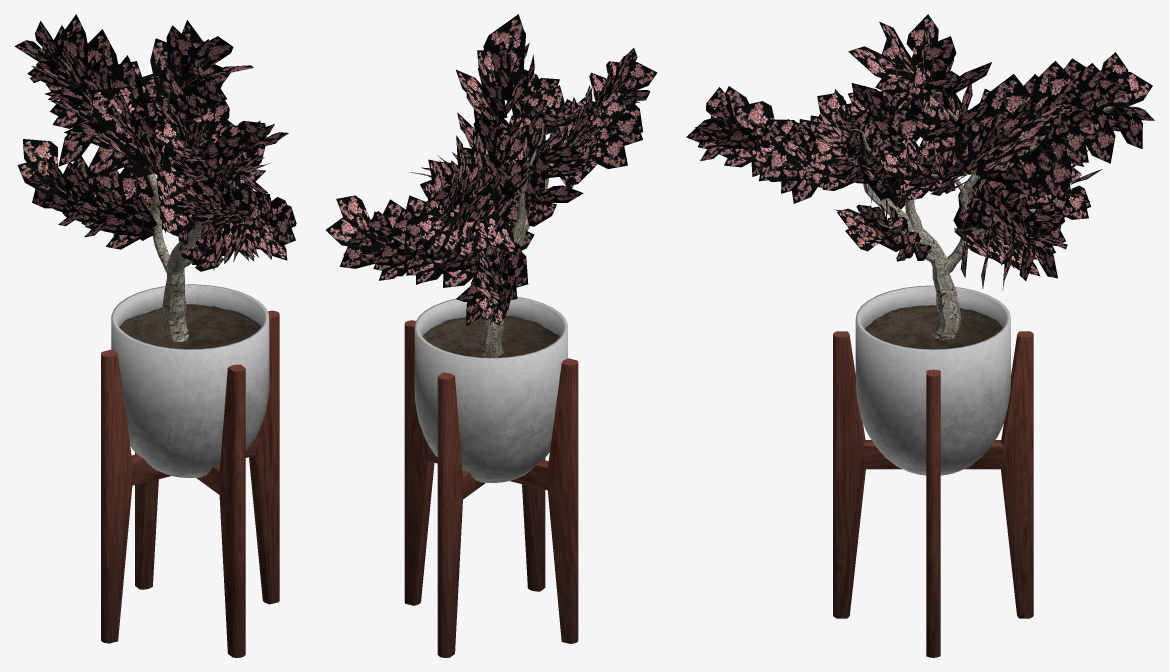
The model's file is plantcompressed.glb.
The picture shows the model from 3 angles, left to right: view 1: azimuth 30°, elevation 25°; view 2: azimuth 150°, elevation 25°; view 3: azimuth 270°, elevation 25°; orthographic projection. The views are drawn at different scales.
Parts seen in each view (by area): view 1: Stand_Mat_0, Pot_LP_Mat_0, Loft002, Plane348, Plane022, Plane522, Plane526, Plane115, Plane051, Plane083, Plane090, Plane268 (+26 smaller); view 2: Stand_Mat_0, Pot_LP_Mat_0, Loft002, Plane522, Plane460, Plane455, Plane521, Plane162, Plane207, Plane465, Plane226, Plane459 (+12 smaller); view 3: Pot_LP_Mat_0, Stand_Mat_0, Loft002, Plane096, Plane090, Plane115, Plane346, Plane525, Plane202, Plane209, Plane527, Plane058 (+6 smaller).
Boxes of the visible parts, x1=… form: Stand_Mat_0: x1=101, y1=310, x2=279, y2=657; Pot_LP_Mat_0: x1=111, y1=284, x2=269, y2=477; Loft002: x1=64, y1=153, x2=246, y2=341; Plane348: x1=90, y1=86, x2=136, y2=153; Plane022: x1=23, y1=139, x2=57, y2=184; Plane522: x1=180, y1=36, x2=233, y2=81; Plane526: x1=166, y1=25, x2=194, y2=76; Plane115: x1=109, y1=55, x2=146, y2=110; Plane051: x1=119, y1=168, x2=161, y2=219; Plane083: x1=58, y1=30, x2=88, y2=88; Plane090: x1=86, y1=29, x2=118, y2=73; Plane268: x1=95, y1=205, x2=154, y2=240; Stand_Mat_0: x1=404, y1=320, x2=578, y2=657; Pot_LP_Mat_0: x1=414, y1=296, x2=567, y2=482; Loft002: x1=393, y1=87, x2=618, y2=357; Plane522: x1=483, y1=14, x2=525, y2=85; Plane460: x1=336, y1=195, x2=377, y2=239; Plane455: x1=326, y1=217, x2=386, y2=251; Plane521: x1=490, y1=41, x2=512, y2=99; Plane162: x1=621, y1=62, x2=657, y2=94; Plane207: x1=610, y1=112, x2=642, y2=145; Plane465: x1=369, y1=241, x2=412, y2=265; Plane226: x1=597, y1=133, x2=627, y2=168; Plane459: x1=339, y1=246, x2=380, y2=268; Pot_LP_Mat_0: x1=855, y1=285, x2=1010, y2=475; Stand_Mat_0: x1=833, y1=331, x2=1033, y2=657; Loft002: x1=853, y1=91, x2=1114, y2=340; Plane096: x1=1030, y1=142, x2=1072, y2=201; Plane090: x1=1027, y1=61, x2=1073, y2=125; Plane115: x1=986, y1=74, x2=1031, y2=114; Plane346: x1=982, y1=121, x2=1048, y2=165; Plane525: x1=915, y1=36, x2=956, y2=79; Plane202: x1=733, y1=101, x2=774, y2=148; Plane209: x1=758, y1=144, x2=802, y2=181; Plane527: x1=848, y1=46, x2=910, y2=79; Plane058: x1=1112, y1=107, x2=1142, y2=149.
Bounding box in the file's own units: 2.85 × 8.6 × 6.16.
3 materials, 3 textured.
